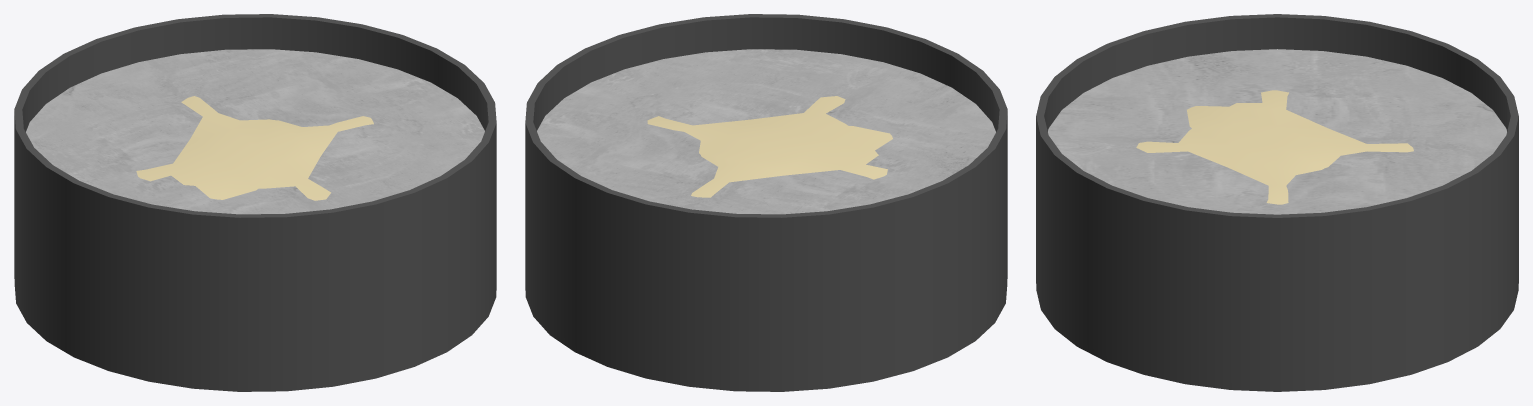
The model's file is cakeb.dae.
3 views of the same model, side by side, from view 1: azimuth 30°, elevation 25°; view 2: azimuth 150°, elevation 25°; view 3: azimuth 270°, elevation 25° (orthographic).
Visible parts, largest first — view 1: walls, Cake, dough, bottom; view 2: walls, Cake, dough, bottom; view 3: walls, Cake, dough, bottom.
Boxes of the visible parts, <box> form: walls: <box>14,14,496,385</box>; Cake: <box>26,49,484,214</box>; dough: <box>136,96,373,200</box>; bottom: <box>14,283,496,391</box>; walls: <box>525,14,1007,385</box>; Cake: <box>537,49,995,214</box>; dough: <box>647,96,892,197</box>; bottom: <box>525,283,1007,391</box>; walls: <box>1036,14,1518,385</box>; Cake: <box>1048,49,1506,214</box>; dough: <box>1136,90,1413,204</box>; bottom: <box>1036,285,1518,391</box>.
Bounding box in the file's own units: 2.41 × 2.41 × 0.9569.
